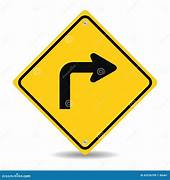right: (16, 9, 156, 155)
